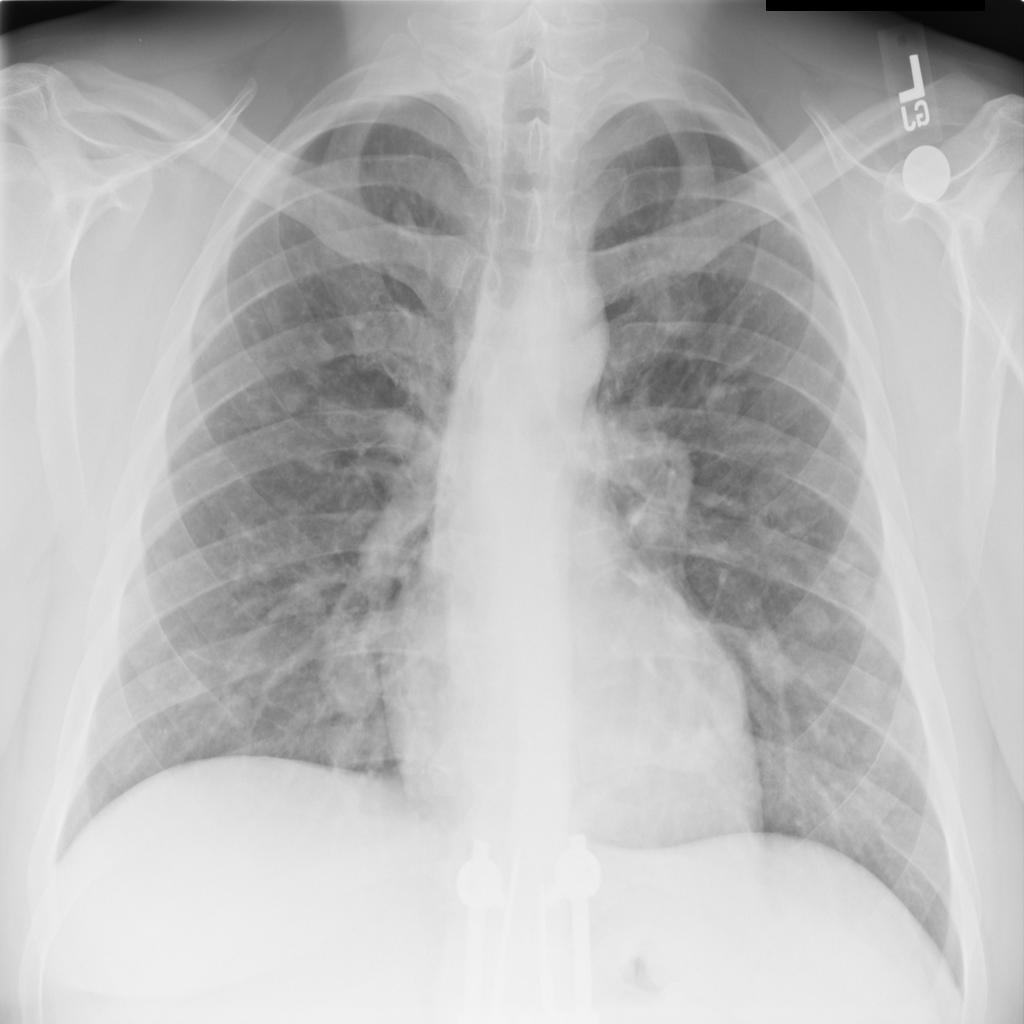nodule: (303, 612, 402, 724), (739, 617, 806, 703), (193, 674, 270, 745), (774, 593, 838, 670), (825, 531, 876, 585), (268, 363, 315, 420), (294, 324, 343, 377), (802, 345, 850, 399)
